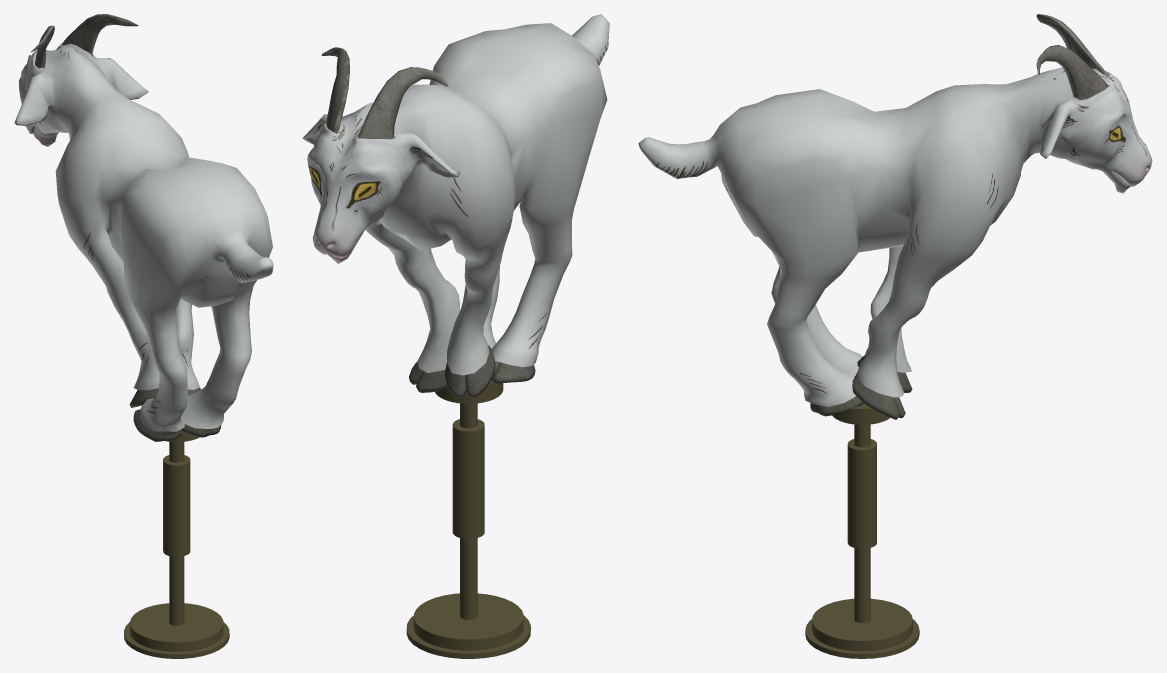
The model's file is Goatbalancingonstand.fbx.
3 renders of one model, left to right at view 1: azimuth 30°, elevation 25°; view 2: azimuth 150°, elevation 25°; view 3: azimuth 270°, elevation 25°, orthographic. The views are drawn at different scales.
Visible parts, largest first — view 1: Tiger.006; view 2: Tiger.006; view 3: Tiger.006.
Part boxes in pixels (<box>): Tiger.006: <box>14,14,273,658</box>; Tiger.006: <box>302,14,609,658</box>; Tiger.006: <box>638,14,1152,658</box>.
Bounding box in the file's own units: 39.05 × 156 × 121.
